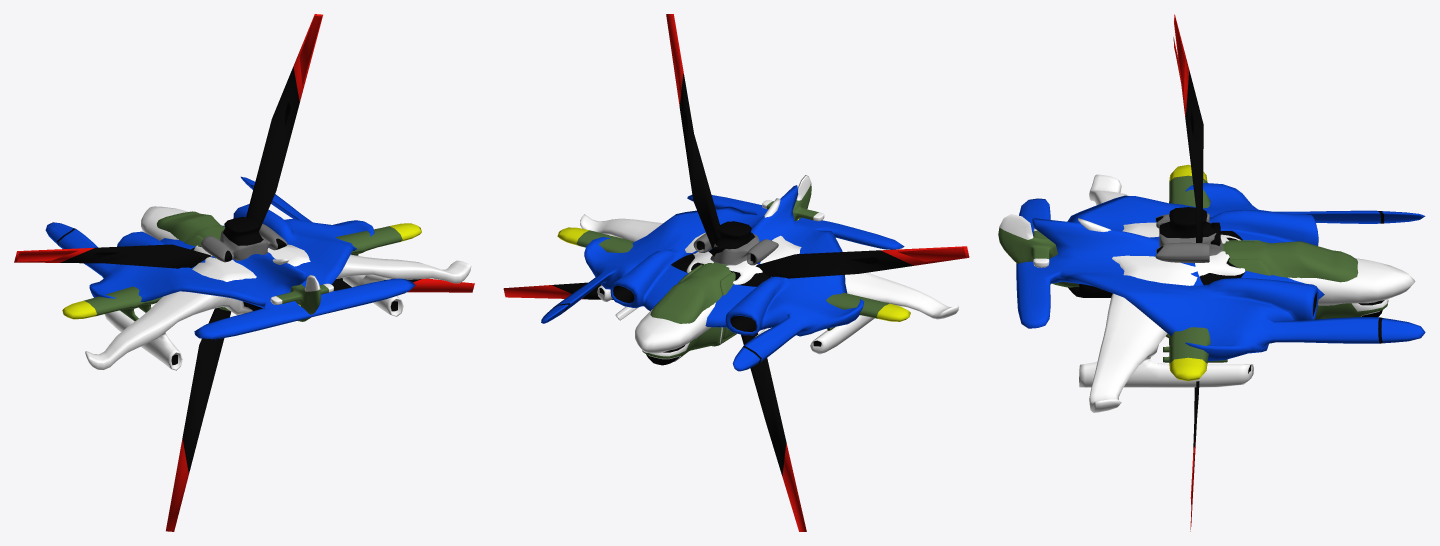
The model's file is ship1.fbx.
3 renders of one model, left to right at view 1: azimuth 30°, elevation 25°; view 2: azimuth 150°, elevation 25°; view 3: azimuth 270°, elevation 25°, orthographic. The views are drawn at different scales.
Visible parts, largest first — view 1: pancake, prop.001, Ship1, Heli, BaseEnemy1; view 2: pancake, prop.001, Ship1, Heli, BaseEnemy1; view 3: pancake, Ship1, Heli, prop.001, BaseEnemy1.
Part boxes in pixels (<box>): pancake: <box>45,176,415,339</box>; prop.001: <box>14,14,474,531</box>; Ship1: <box>85,206,471,370</box>; Heli: <box>156,211,333,314</box>; BaseEnemy1: <box>62,223,421,321</box>; pancake: <box>541,185,904,371</box>; prop.001: <box>503,14,969,531</box>; Ship1: <box>580,198,958,354</box>; Heli: <box>642,175,824,365</box>; BaseEnemy1: <box>557,218,910,330</box>; pancake: <box>1016,183,1425,360</box>; Ship1: <box>1068,174,1415,412</box>; Heli: <box>998,207,1388,338</box>; prop.001: <box>1173,14,1220,531</box>; BaseEnemy1: <box>1050,164,1227,381</box>.
Bounding box in the file's own units: 2281 × 2284 × 1479.
